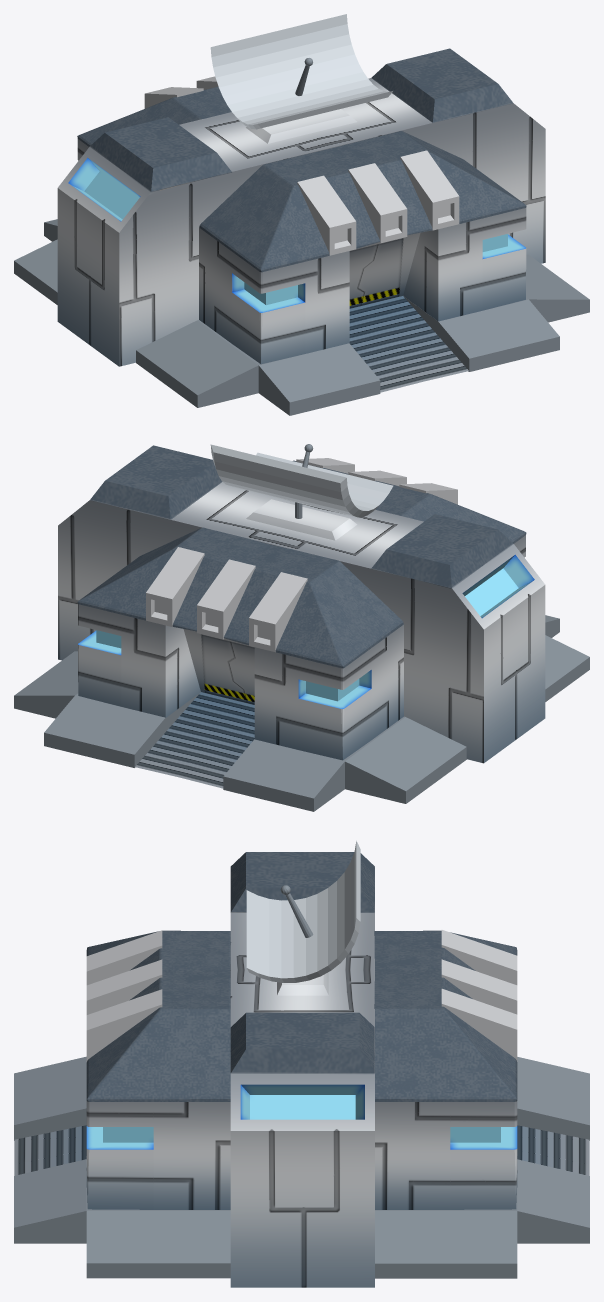
The model's file is Command Centre.fbx.
3 views of the same model, one above another, from view 1: azimuth 30°, elevation 25°; view 2: azimuth 150°, elevation 25°; view 3: azimuth 270°, elevation 25° (orthographic). The views are drawn at different scales.
Parts seen in each view (by area): view 1: Front (×2), Mid, Base (×2), pPipe1, pCube2 (×2), pCube4, pCube3; view 2: Mid, Front (×2), Base (×2), pPipe1, pCube3 (×2), pCube4 (×2), pCube2 (×2); view 3: Front (×2), Mid, Base (×2), pPipe1, pCube2 (×2), pCube3 (×2), pCube4 (×2).
Part boxes in pixels (box(x1,y1,x2,y2)): Front (×2): box(77, 86, 526, 392); Mid: box(57, 48, 545, 366); Base (×2): box(14, 219, 589, 415); pPipe1: box(210, 14, 392, 129); pCube2 (×2): box(144, 87, 459, 230); pCube4: box(348, 163, 407, 242); pCube3: box(297, 175, 356, 255); Mid: box(58, 445, 545, 763); Front (×2): box(77, 460, 526, 788); Base (×2): box(14, 615, 589, 811); pPipe1: box(210, 444, 393, 517); pCube3 (×2): box(146, 483, 457, 626); pCube4 (×2): box(197, 470, 406, 639); pCube2 (×2): box(249, 458, 354, 652); Front (×2): box(14, 930, 589, 1209); Mid: box(230, 852, 374, 1287); Base (×2): box(14, 1056, 589, 1278); pPipe1: box(246, 840, 360, 982); pCube2 (×2): box(86, 930, 517, 1061); pCube3 (×2): box(86, 930, 517, 1061); pCube4 (×2): box(86, 959, 517, 1014).
Size of the model in its own units: 8 by 4.4 by 7.99.
